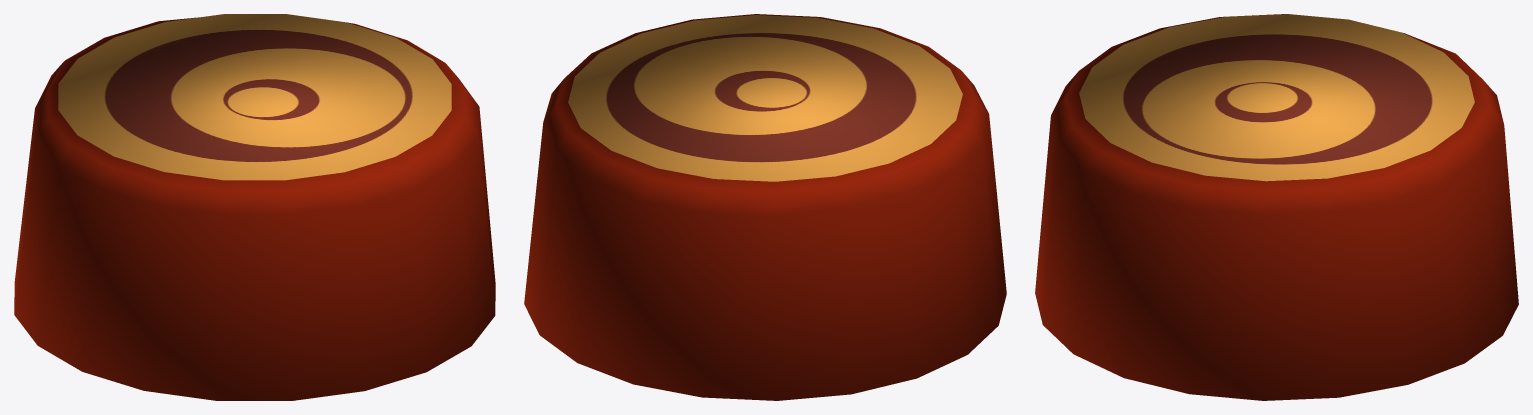
File: LogBigLow.fbx
The picture shows the model from 3 angles, left to right: view 1: azimuth 30°, elevation 25°; view 2: azimuth 150°, elevation 25°; view 3: azimuth 270°, elevation 25°; orthographic projection.
Visible parts, largest first — view 1: LogsBig; view 2: LogsBig; view 3: LogsBig.
Boxes of the visible parts, bbox=[...] form: LogsBig: bbox=[14, 14, 495, 400]; LogsBig: bbox=[524, 14, 1006, 400]; LogsBig: bbox=[1035, 14, 1518, 400].
Size of the model in its own units: 6.72 by 3.26 by 6.72.
